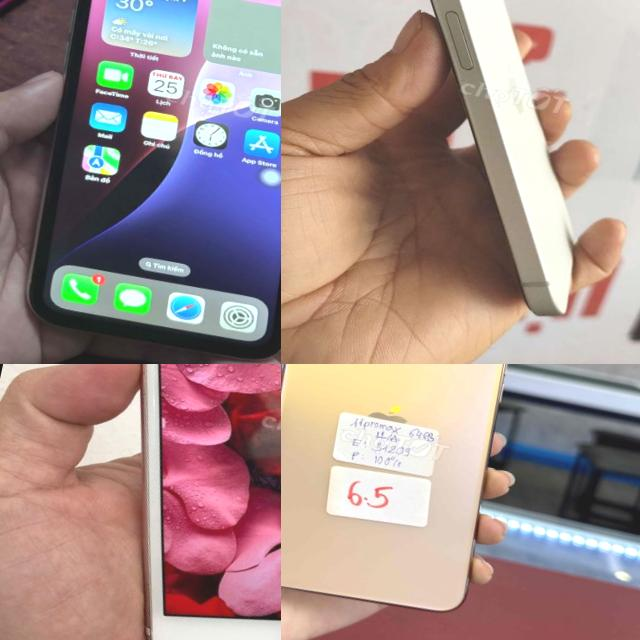gen_11: (281, 364, 546, 637)
gen_15: (293, 0, 640, 333)
gen_7_8: (31, 364, 281, 640)
gen_x_xs: (0, 0, 281, 364)
